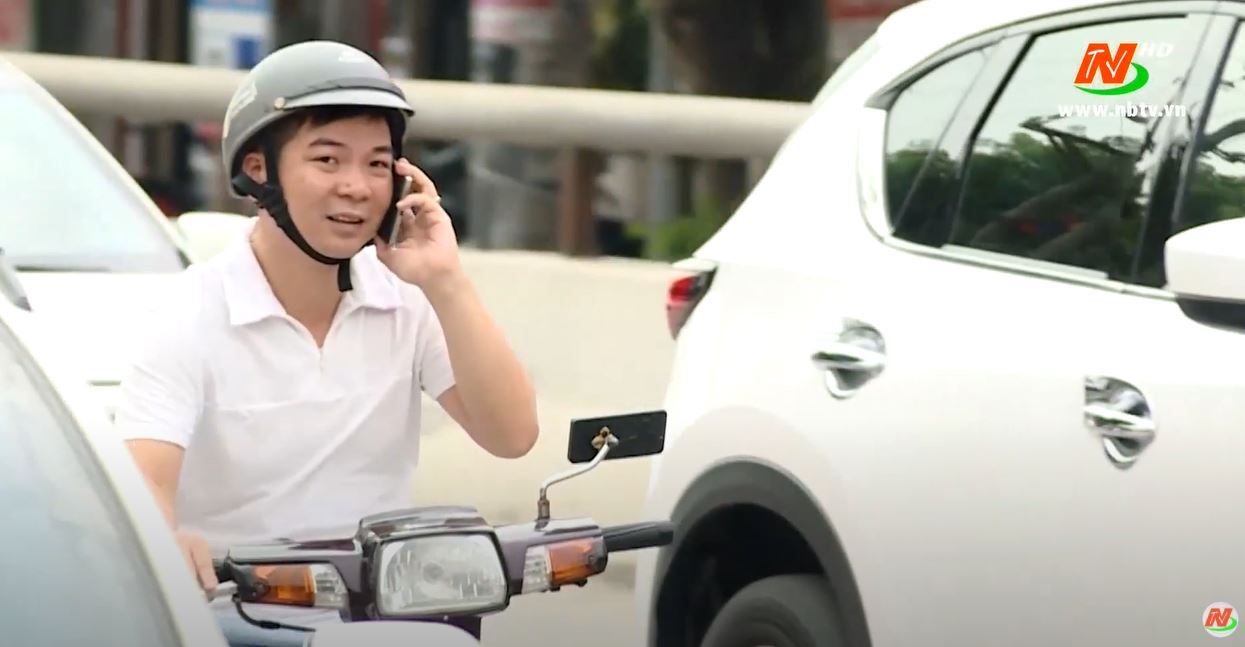dieu khien xe may: (199, 40, 609, 647)
su dung dien thoai: (219, 41, 462, 309)
